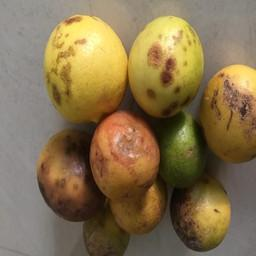Bad_lime: (36, 15, 256, 256)
